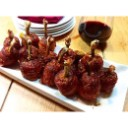chicken_lollipop: (3, 29, 55, 87), (61, 36, 105, 59), (81, 62, 100, 101), (57, 62, 76, 93), (100, 64, 117, 97)
